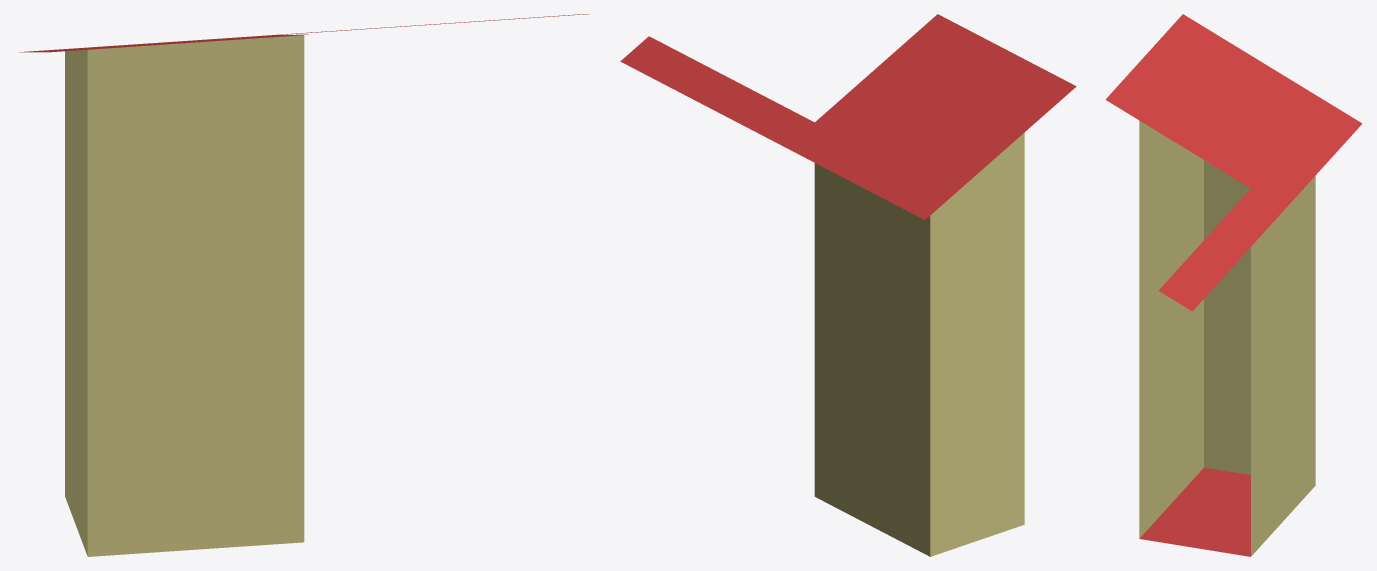
3 views of the same model, side by side, from view 1: azimuth 30°, elevation 25°; view 2: azimuth 150°, elevation 25°; view 3: azimuth 270°, elevation 25° (orthographic). The views are drawn at different scales.
Bounding box in the file's own units: 7.04 × 3.53 × 6.56.
